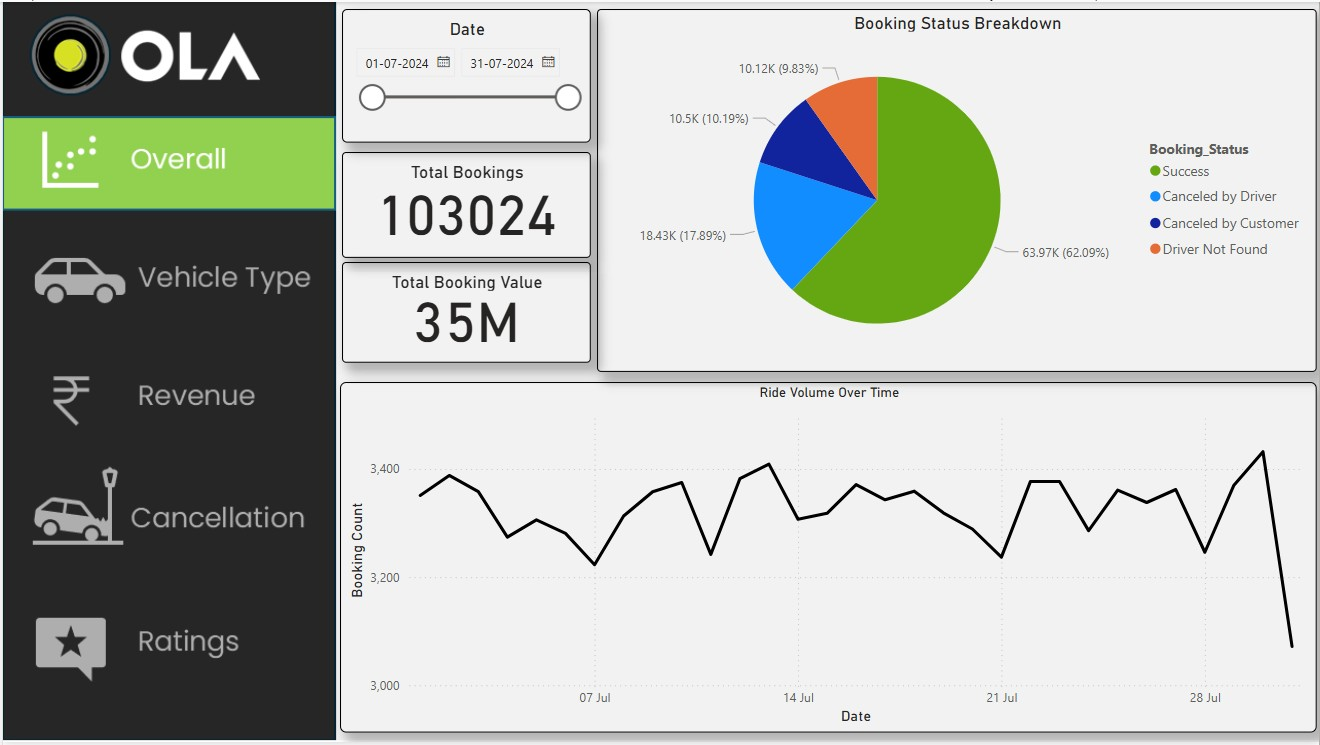

What the dashboard file says about the page in this screenshot:
{"tool":"powerbi","page":{"name":"Overall","canvas":[1280,720],"ordinal":0},"visuals":[{"type":"actionButton","box":[0,212.2,323.3,112.2],"z":0},{"type":"actionButton","box":[0,324.4,323.3,112.2],"z":1000},{"type":"actionButton","box":[0,445.6,323.3,111.1],"z":2000},{"type":"actionButton","box":[0,568.9,330,110],"z":3000},{"type":"lineChart","title":"Ride Volume Over Time","fields":{"Category":["July.Date"],"Y":["CountNonNull(July.Booking_ID)"]},"box":[328,370,950,341],"z":4000},{"type":"pieChart","title":"Booking Status Breakdown","fields":{"Category":["July.Booking_Status"],"Y":["CountNonNull(July.Booking_Status)"]},"box":[578,7,700,353],"z":5000},{"type":"slicer","title":"Date","fields":{"Values":["July.Date"]},"box":[330,7,242,130],"z":6000},{"type":"card","title":"Total Bookings","fields":{"Values":["Count(July.Booking_ID)"]},"box":[330,145.5,241.8,102.7],"z":7000},{"type":"card","title":"Total Booking Value","fields":{"Values":["Sum(July.Booking_Value)"]},"box":[330,252.7,241.8,98.2],"z":8000}]}

Visuals, with their boxes in screenshot pixels (x1, y1, x2, y2), scaled from the page's 1280x720 canvas onto the 1320x745 screenshot:
actionButton: (0, 220, 333, 336)
actionButton: (0, 336, 333, 452)
actionButton: (0, 461, 333, 576)
actionButton: (0, 589, 340, 702)
"Ride Volume Over Time" lineChart: (338, 383, 1318, 736)
"Booking Status Breakdown" pieChart: (596, 7, 1318, 373)
"Date" slicer: (340, 7, 590, 142)
"Total Bookings" card: (340, 151, 590, 257)
"Total Booking Value" card: (340, 261, 590, 363)
